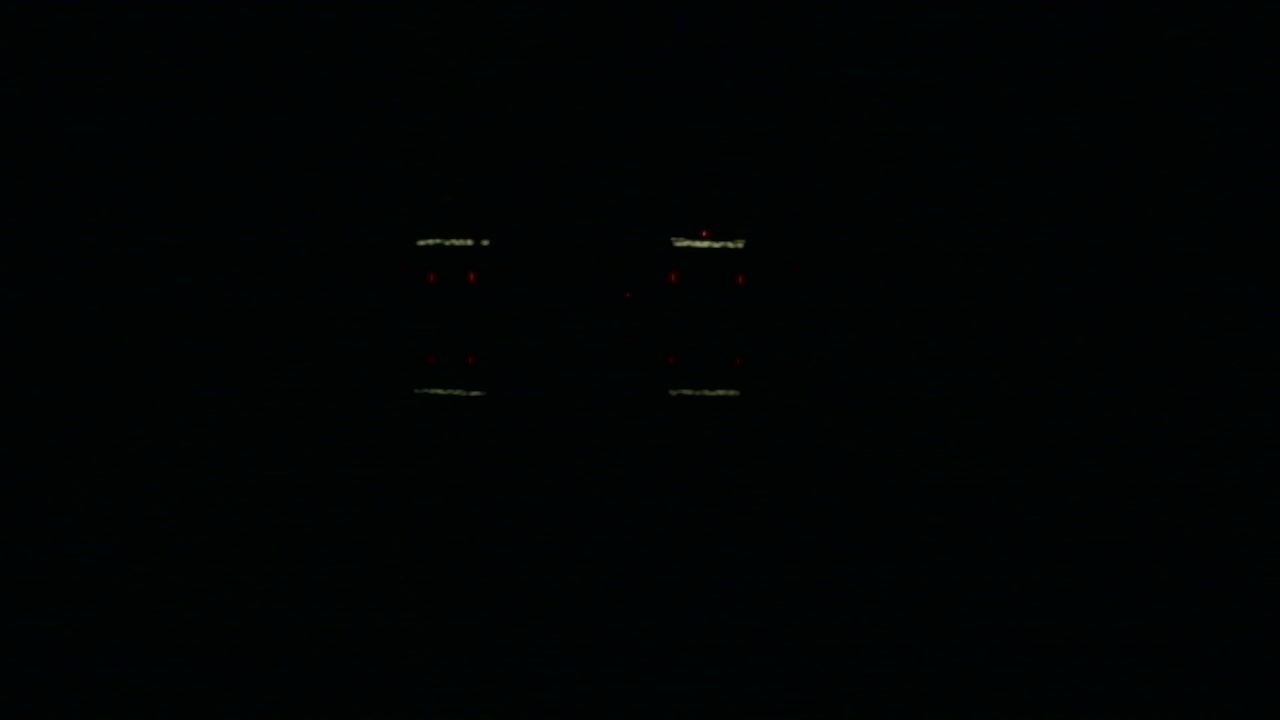lamp: (667, 270, 675, 286), (737, 269, 742, 284), (469, 271, 474, 284), (425, 273, 429, 283)
pair1: (426, 273, 475, 283)
pair2: (669, 271, 743, 285)
